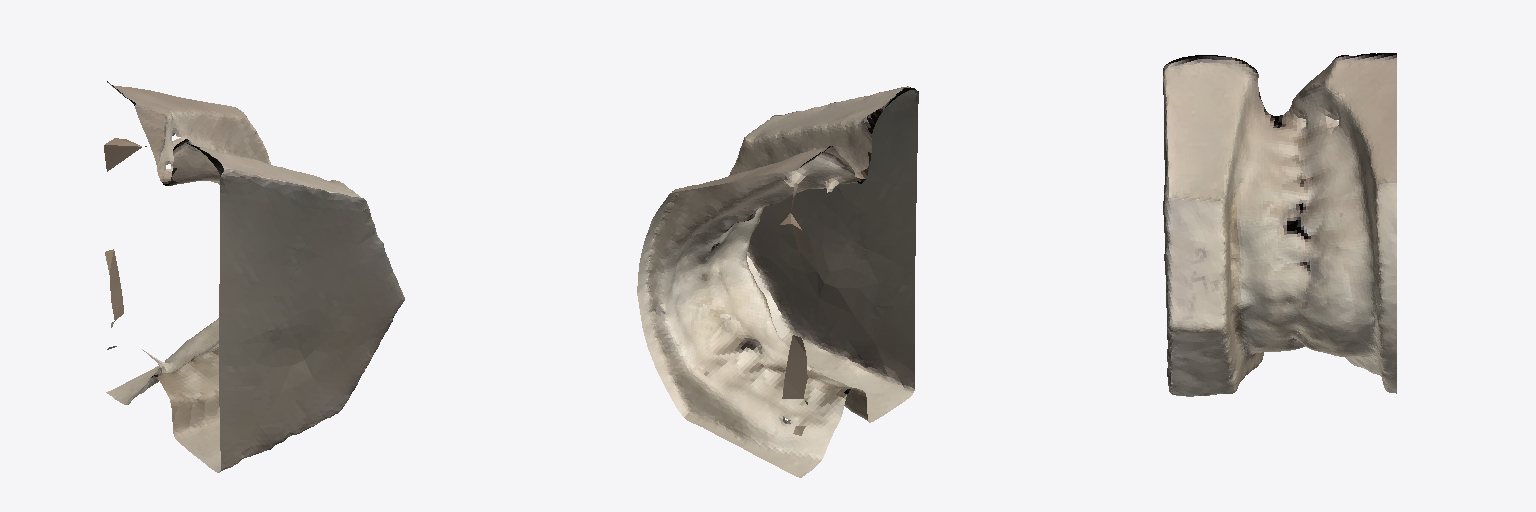
The picture shows the model from 3 angles: view 1: azimuth 30°, elevation 25°; view 2: azimuth 150°, elevation 25°; view 3: azimuth 270°, elevation 25°; orthographic projection.
Size of the model in its own units: 0.0451 by 0.0721 by 0.0488.
1 materials, 1 textured.